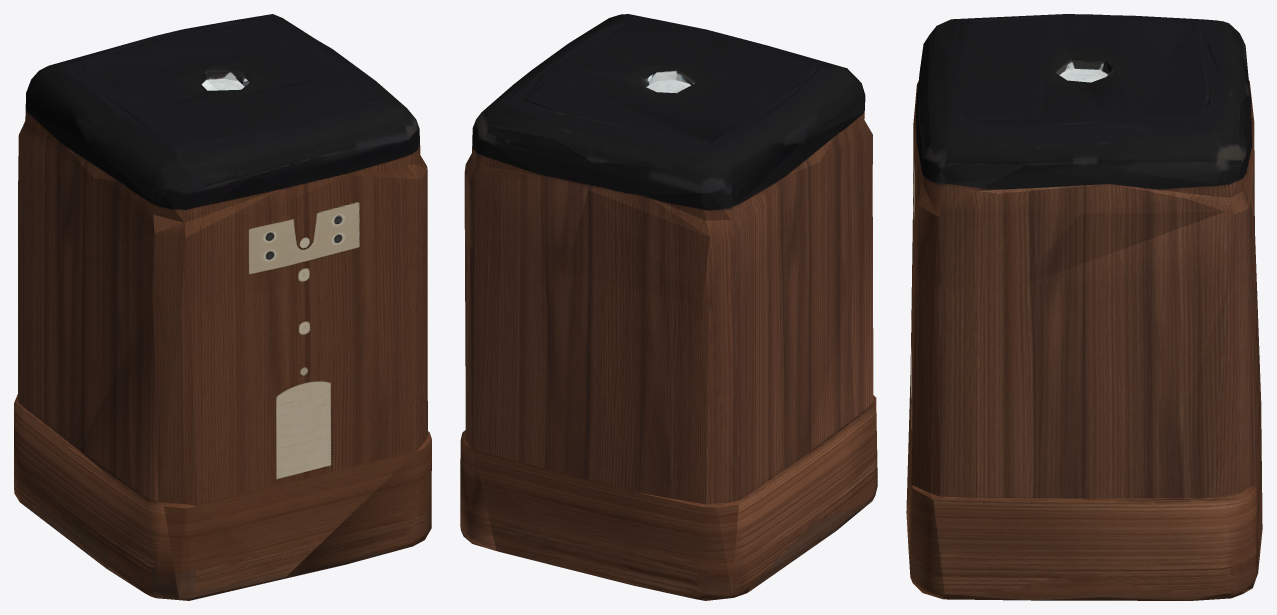
File: ENV_WallDispenser.fbx
The picture shows the model from 3 angles, left to right: view 1: azimuth 30°, elevation 25°; view 2: azimuth 150°, elevation 25°; view 3: azimuth 270°, elevation 25°; orthographic projection. The views are drawn at different scales.
Visible parts, largest first — view 1: Mesh_0; view 2: Mesh_0; view 3: Mesh_0.
Boxes of the visible parts, x1,y1,x2,y2 form: Mesh_0: (14, 14, 431, 600); Mesh_0: (460, 14, 877, 600); Mesh_0: (906, 14, 1262, 600).
Bounding box in the file's own units: 133 × 190 × 133.
1 material, 1 textured.
